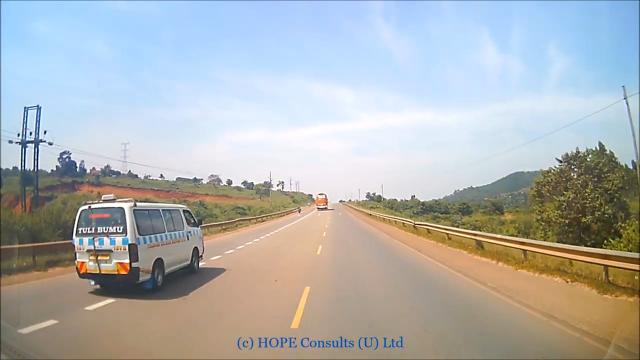bus: (314, 191, 329, 210)
van: (72, 195, 216, 286)
